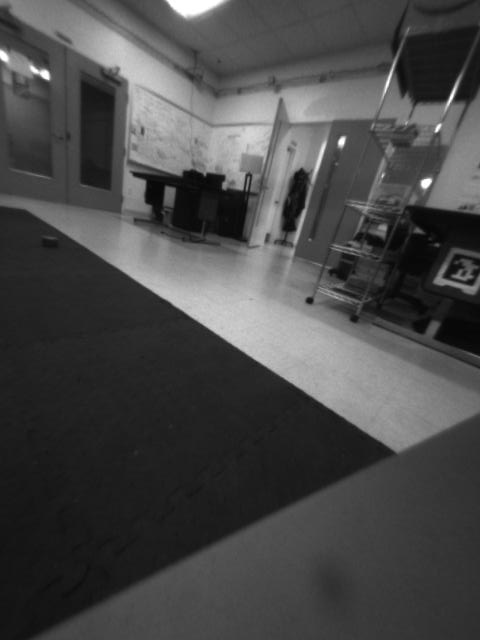dogtoy: (27, 225, 66, 252)
